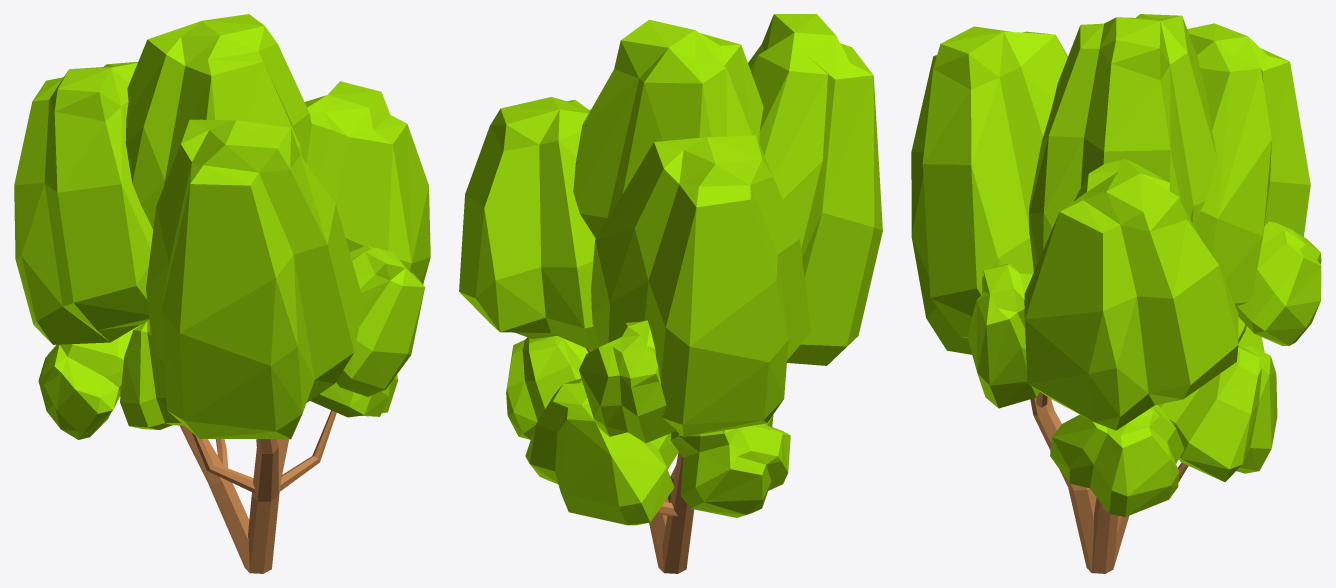
File: Tree_3.fbx
3 renders of one model, left to right at view 1: azimuth 30°, elevation 25°; view 2: azimuth 150°, elevation 25°; view 3: azimuth 270°, elevation 25°, orthographic. The views are drawn at different scales.
Parts seen in each view (by area): view 1: tree_3; view 2: tree_3; view 3: tree_3.
Part boxes in pixels (left/top/right/bottom): tree_3: left=14, top=14, right=430, bottom=573; tree_3: left=459, top=14, right=882, bottom=573; tree_3: left=911, top=14, right=1321, bottom=573.
Size of the model in its own units: 992 by 1450 by 1005.
